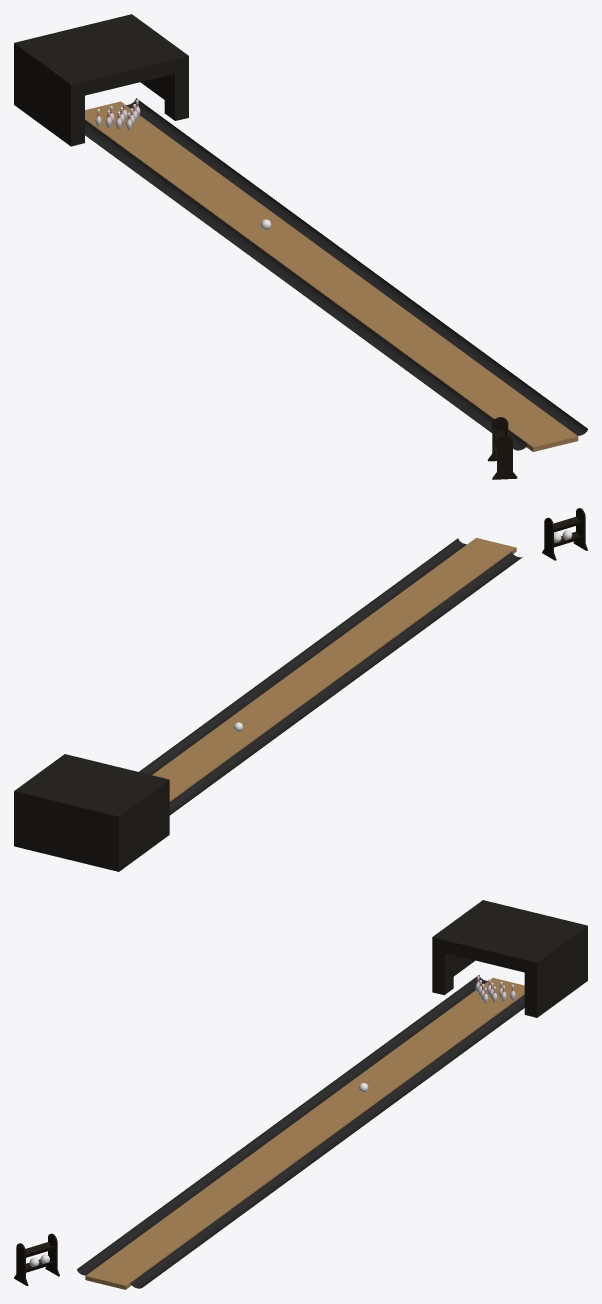
File: bowlingbahn 1.fbx
3 renders of one model, top to bottom at view 1: azimuth 30°, elevation 25°; view 2: azimuth 150°, elevation 25°; view 3: azimuth 330°, elevation 25°, orthographic. The views are drawn at different scales.
Parts seen in each view (by area): view 1: Bahn_Boden, Box, Rinne, BowlingBallRack; view 2: Box, Bahn_Boden, Rinne, BowlingBallRack; view 3: Bahn_Boden, Box, Rinne, BowlingBallRack.
Part boxes in pixels (x1=…): Bahn_Boden: x1=85, y1=101, x2=578, y2=451; Box: x1=14, y1=14, x2=188, y2=146; Rinne: x1=85, y1=98, x2=587, y2=450; BowlingBallRack: x1=487, y1=417, x2=517, y2=479; Box: x1=14, y1=754, x2=169, y2=871; Bahn_Boden: x1=152, y1=538, x2=516, y2=801; Rinne: x1=139, y1=538, x2=522, y2=815; BowlingBallRack: x1=542, y1=508, x2=587, y2=560; Bahn_Boden: x1=85, y1=978, x2=524, y2=1289; Box: x1=432, y1=900, x2=587, y2=1017; Rinne: x1=77, y1=975, x2=524, y2=1288; BowlingBallRack: x1=14, y1=1233, x2=59, y2=1285.
Size of the model in its own units: 329 by 144 by 2039.
